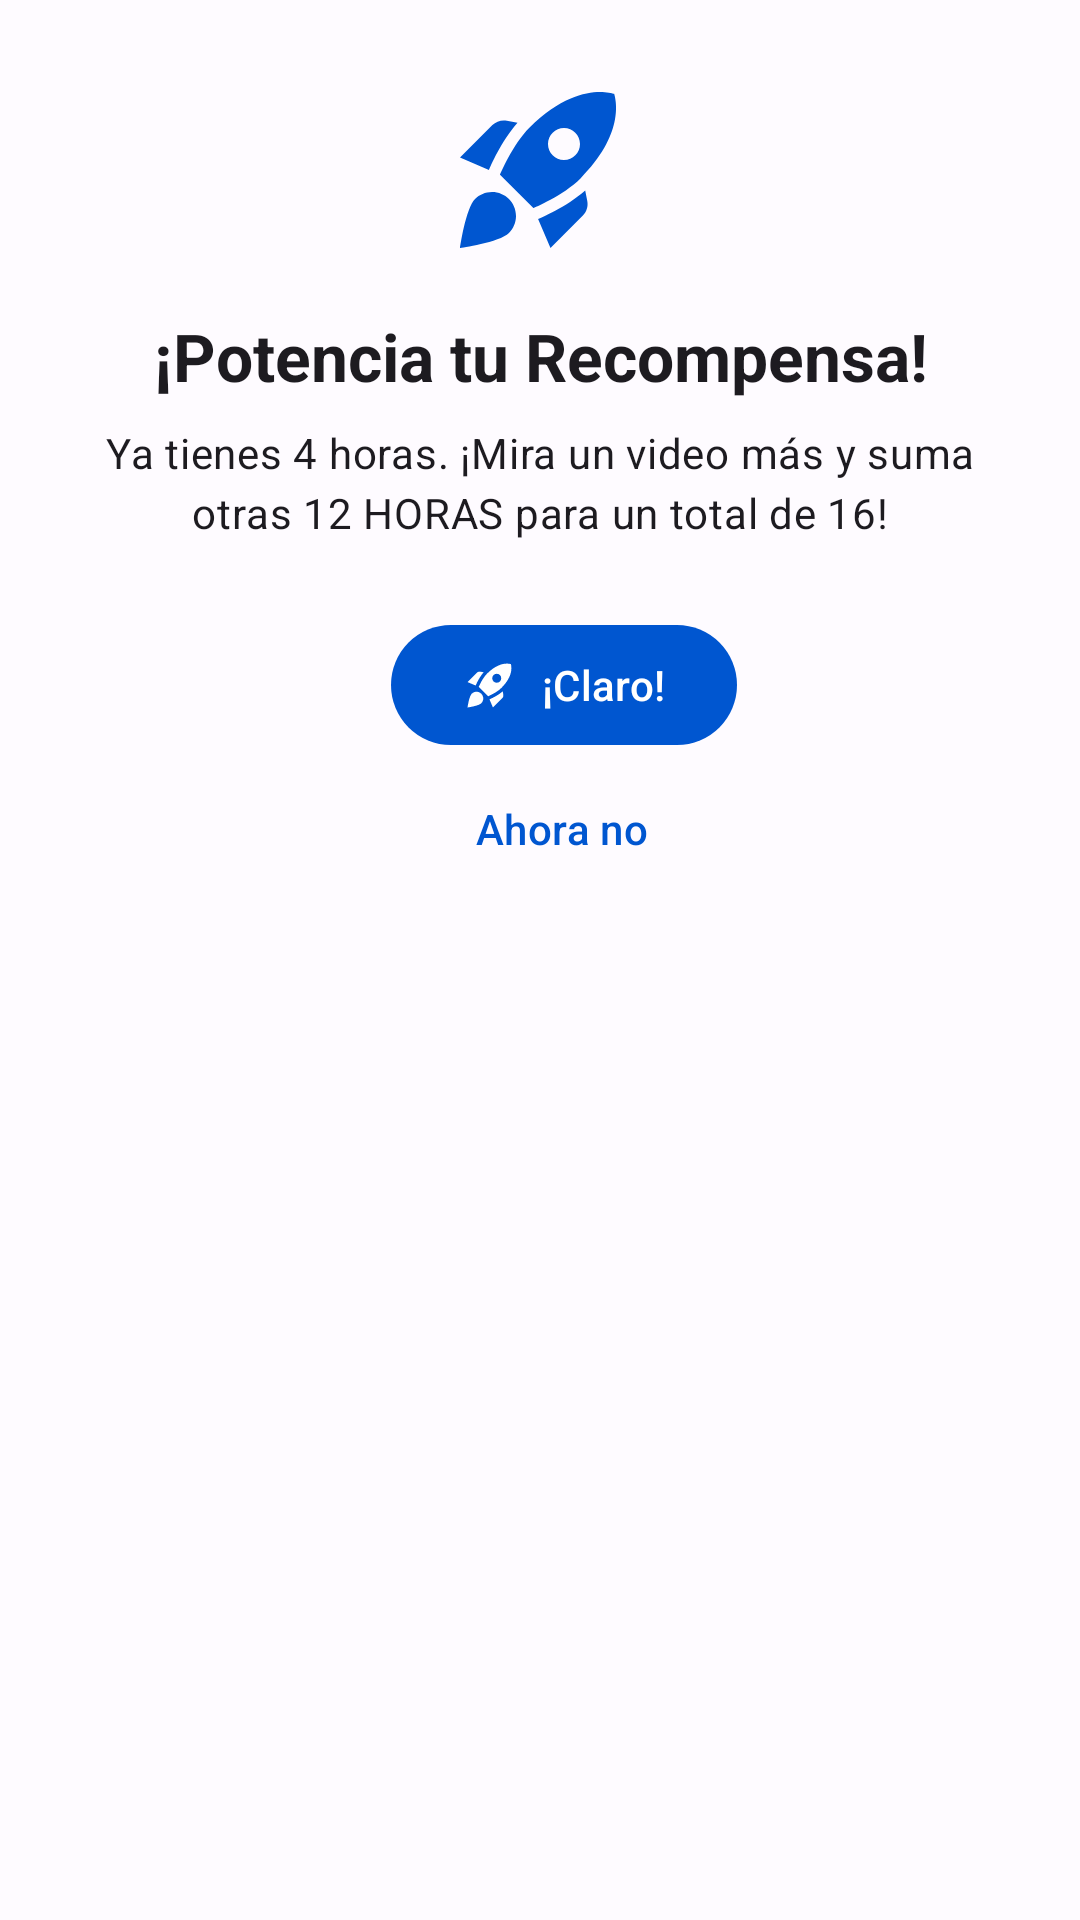

Named icons in this screenshot (1080px x 1920px) and their centers, [x,y]:
rocket launch: [538,170]
